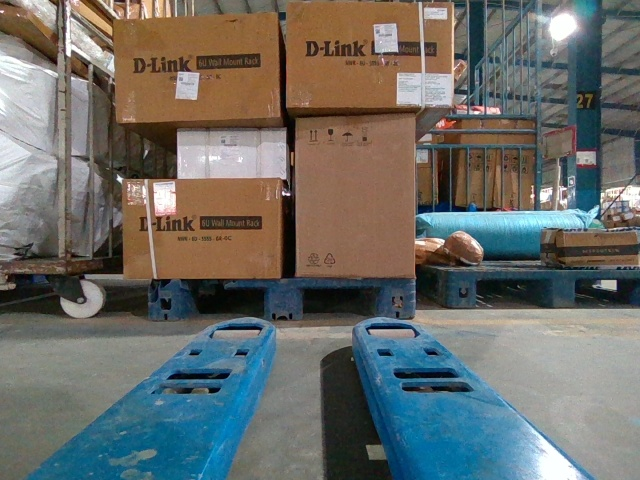pallet: (151, 278, 416, 318)
